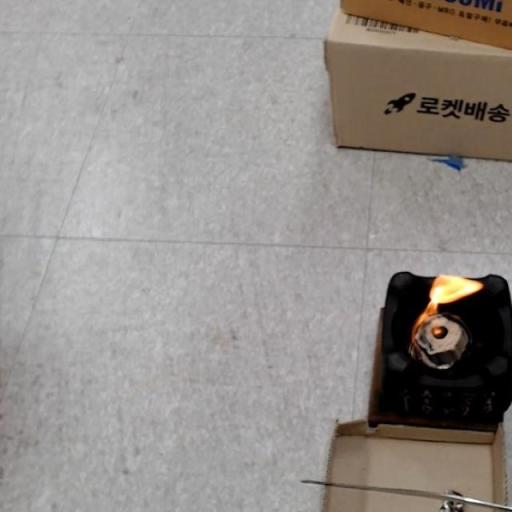smoke: (406, 264, 484, 347)
